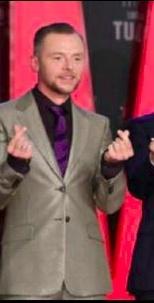oneheart: (2, 122, 42, 162), (103, 125, 142, 164)
